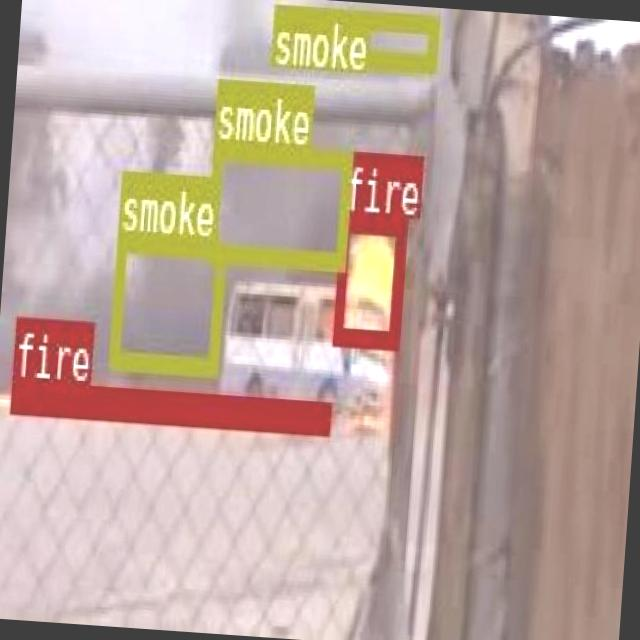fire: (8, 376, 329, 431), (332, 210, 404, 344)
smoke: (204, 142, 352, 266), (108, 232, 225, 370), (268, 0, 438, 68)
